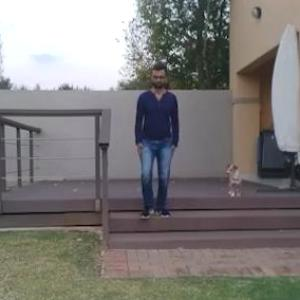follow: (131, 59, 173, 227)
